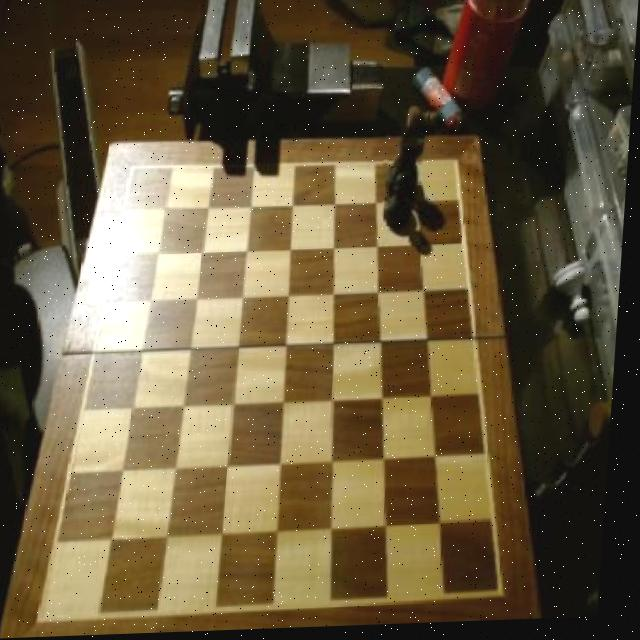black-knight: (383, 180, 418, 236)
black-queen: (383, 131, 426, 206)
